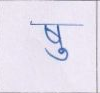u_matra: (45, 46, 70, 61)
